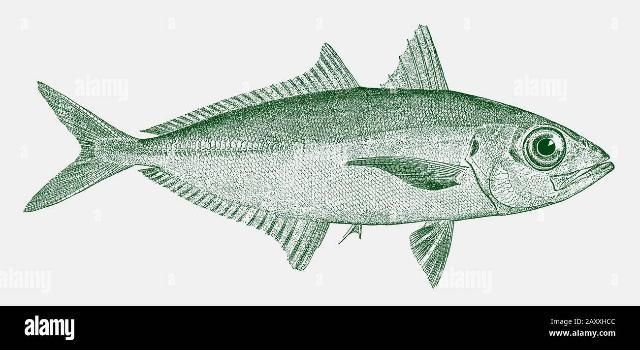Mulut: (570, 128, 628, 204)
Sirip Anal: (134, 157, 336, 275)
Sirip Dada: (345, 144, 465, 198)
Sirip Ekor: (17, 72, 121, 230)
Sirip Perut: (402, 215, 462, 293)
Sirip Punggung: (142, 6, 452, 130)
